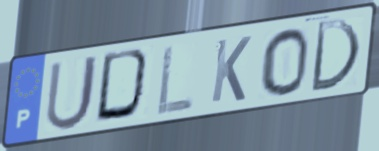D: (92, 46, 155, 124), (308, 17, 364, 95)
K: (208, 34, 254, 106)
L: (154, 42, 196, 118)
O: (259, 25, 311, 97)
U: (42, 52, 102, 133)
